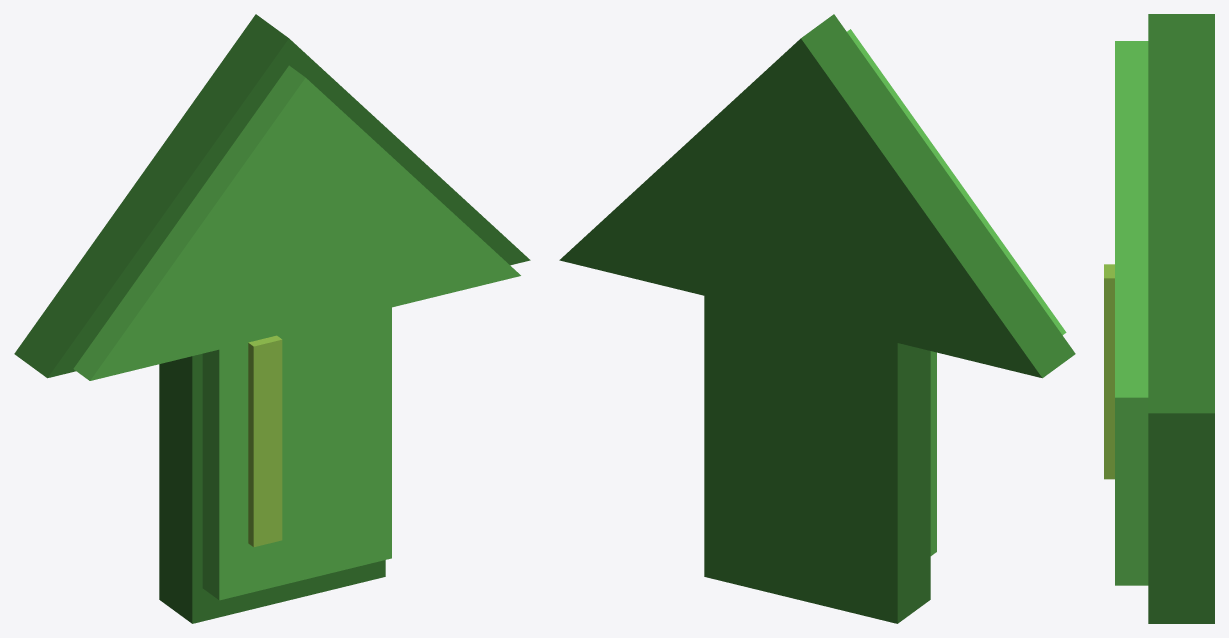
Rendered from flecha_mejora.glb.
3 views of the same model, side by side, from view 1: azimuth 30°, elevation 25°; view 2: azimuth 150°, elevation 25°; view 3: azimuth 270°, elevation 25° (orthographic).
Visible parts, largest first — view 1: flecha_mejora_ui_verde, flecha_mejora_ui_verde_osc, flecha_mejora_hoja_clara; view 2: flecha_mejora_ui_verde_osc, flecha_mejora_ui_verde; view 3: flecha_mejora_ui_verde_osc, flecha_mejora_ui_verde, flecha_mejora_hoja_clara.
Boxes of the visible parts, x1,y1,x2,y2 form: flecha_mejora_ui_verde: (73,65,520,600); flecha_mejora_ui_verde_osc: (14,14,530,623); flecha_mejora_hoja_clara: (248,335,282,547); flecha_mejora_ui_verde_osc: (559,14,1075,623); flecha_mejora_ui_verde: (847,29,1066,555); flecha_mejora_ui_verde_osc: (1148,14,1214,623); flecha_mejora_ui_verde: (1115,41,1148,585); flecha_mejora_hoja_clara: (1104,264,1114,479).
Bounding box in the file's own units: 1.01 × 1.12 × 0.2.
